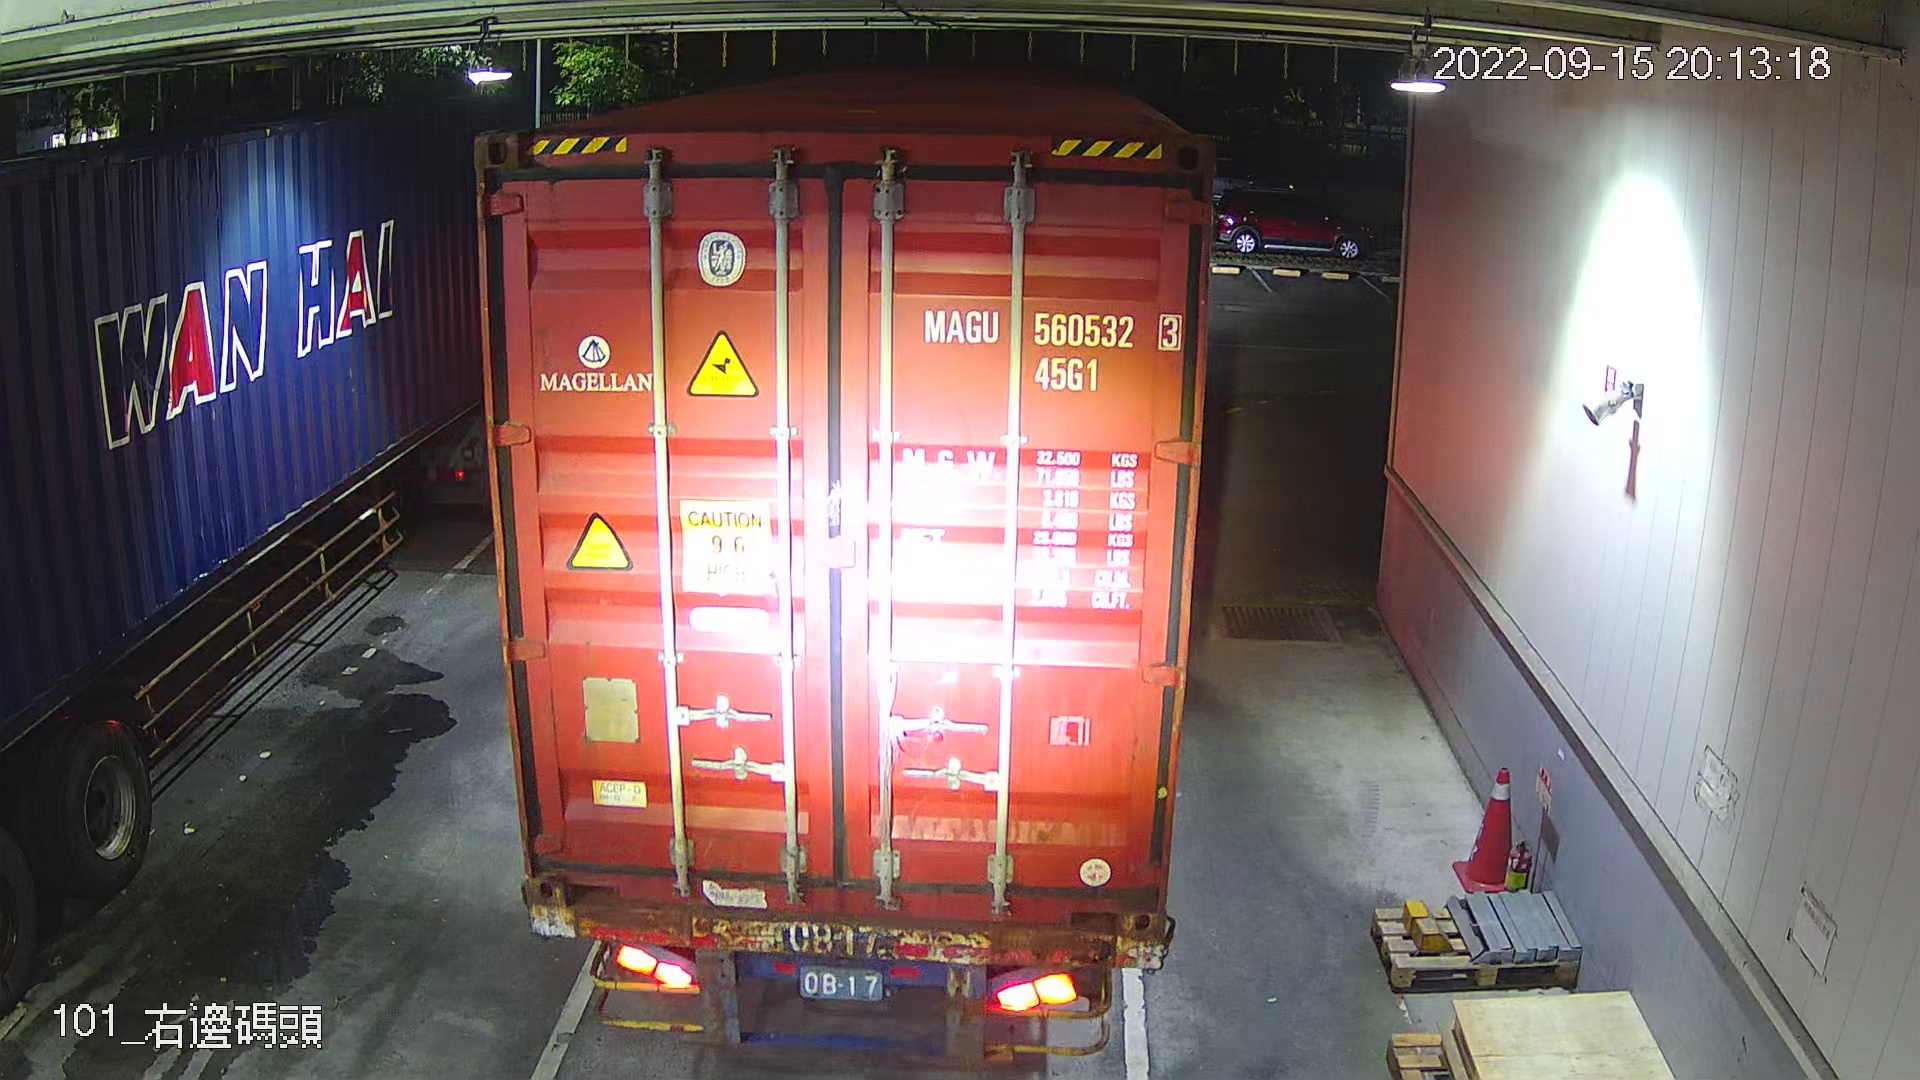container: (909, 299, 1189, 402)
